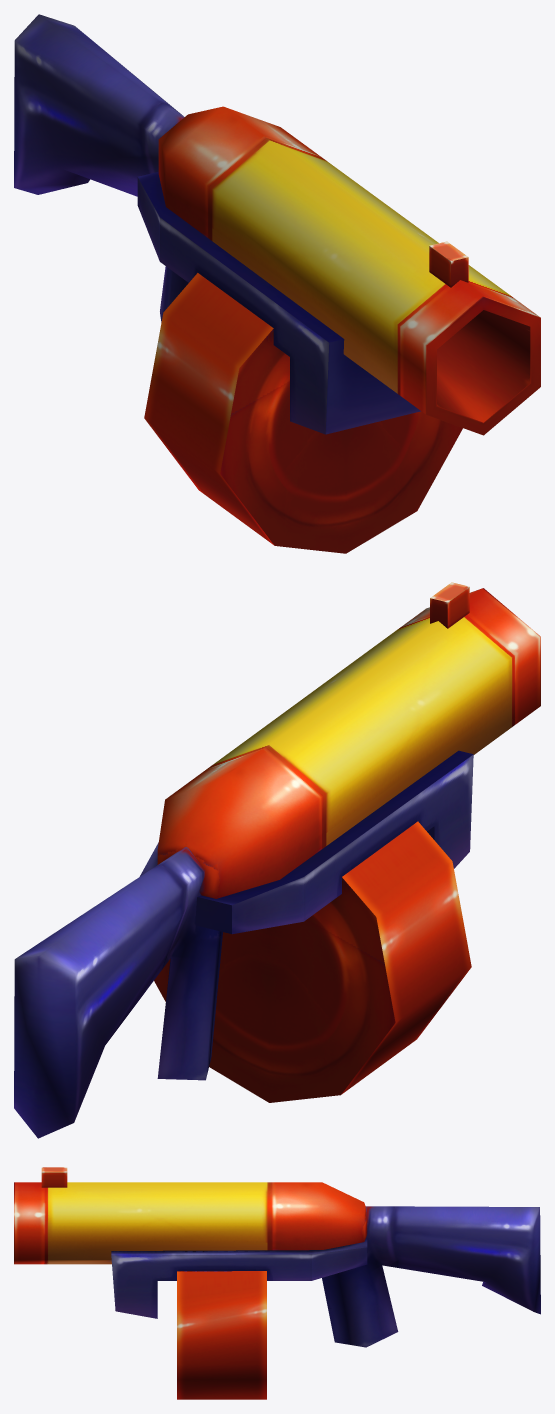
Rendered from weapon01.FBX.
The picture shows the model from 3 angles, top to bottom: view 1: azimuth 30°, elevation 25°; view 2: azimuth 150°, elevation 25°; view 3: azimuth 270°, elevation 25°; orthographic projection. The views are drawn at different scales.
Visible parts, largest first — view 1: weapon_automat; view 2: weapon_automat; view 3: weapon_automat.
Part boxes in pixels (x1,y1,x2,y2): weapon_automat: (14,14,540,553); weapon_automat: (14,582,540,1138); weapon_automat: (14,1167,540,1399).
Bounding box in the file's own units: 48.27 × 69.28 × 148.
